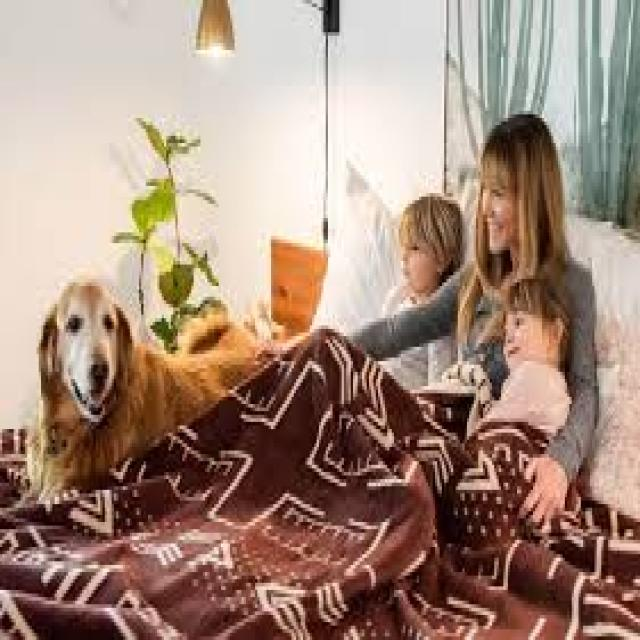blanket: (0, 328, 640, 639)
